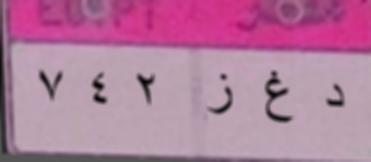2: (131, 66, 161, 112)
4: (88, 66, 115, 116)
7: (37, 63, 66, 106)
daal: (320, 74, 350, 116)
ghayn: (261, 67, 296, 127)
zay: (202, 68, 234, 123)
